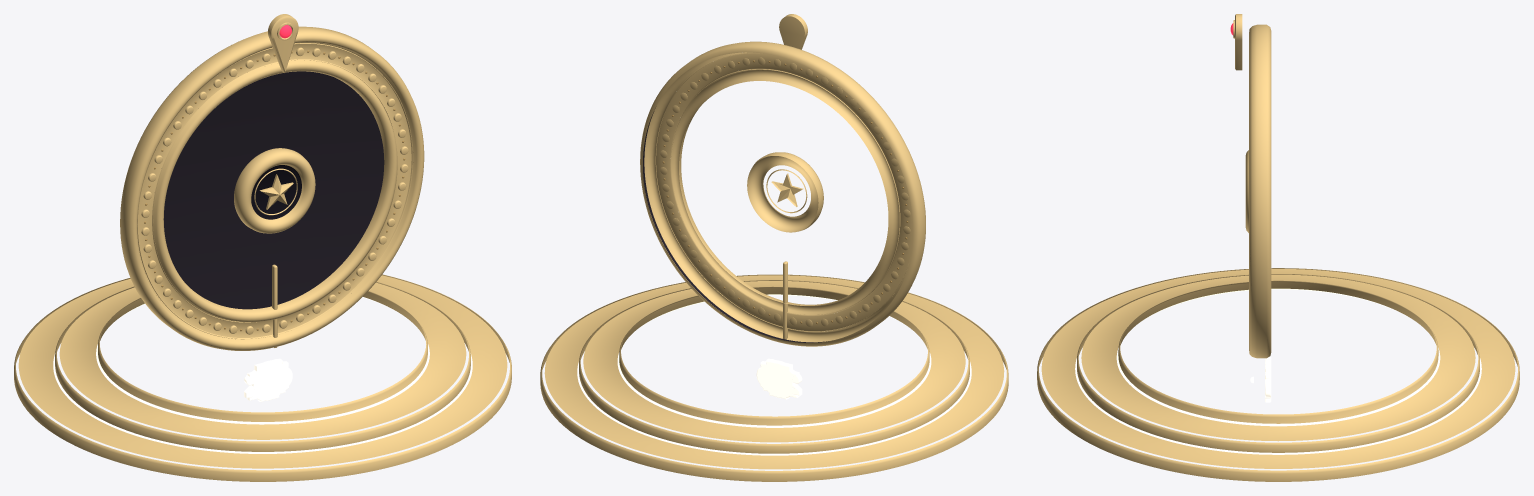
File: roue.glb
3 renders of one model, left to right at view 1: azimuth 30°, elevation 25°; view 2: azimuth 150°, elevation 25°; view 3: azimuth 270°, elevation 25°, orthographic. The views are drawn at different scales.
Parts seen in each view (by area): view 1: SOCLE, ROUE_Dos, ROUE_Couronne, ROUE_Moyeu, ROUE_Douilles, ROUE_Filet2, POINTEUR, ROUE_Filet; view 2: SOCLE, ROUE_Couronne, ROUE_Moyeu, ROUE_Douilles, POINTEUR, ROUE_Dos, ROUE_Filet; view 3: SOCLE, ROUE_Couronne.
Boxes of the visible parts, x1,y1,x2,y2 form: SOCLE: [14, 274, 511, 481]; ROUE_Dos: [163, 71, 384, 309]; ROUE_Couronne: [120, 26, 424, 350]; ROUE_Moyeu: [234, 148, 315, 233]; ROUE_Douilles: [141, 47, 408, 334]; ROUE_Filet2: [137, 43, 412, 339]; POINTEUR: [268, 14, 298, 72]; ROUE_Filet: [152, 59, 395, 322]; SOCLE: [540, 274, 1008, 481]; ROUE_Couronne: [640, 41, 925, 346]; ROUE_Moyeu: [747, 152, 823, 232]; ROUE_Douilles: [660, 57, 910, 326]; POINTEUR: [779, 14, 807, 49]; ROUE_Dos: [643, 108, 828, 342]; ROUE_Filet: [671, 69, 900, 314]; SOCLE: [1037, 268, 1519, 481]; ROUE_Couronne: [1249, 24, 1271, 358].
Bounding box in the file's own units: 5.34 × 4.67 × 5.34.
